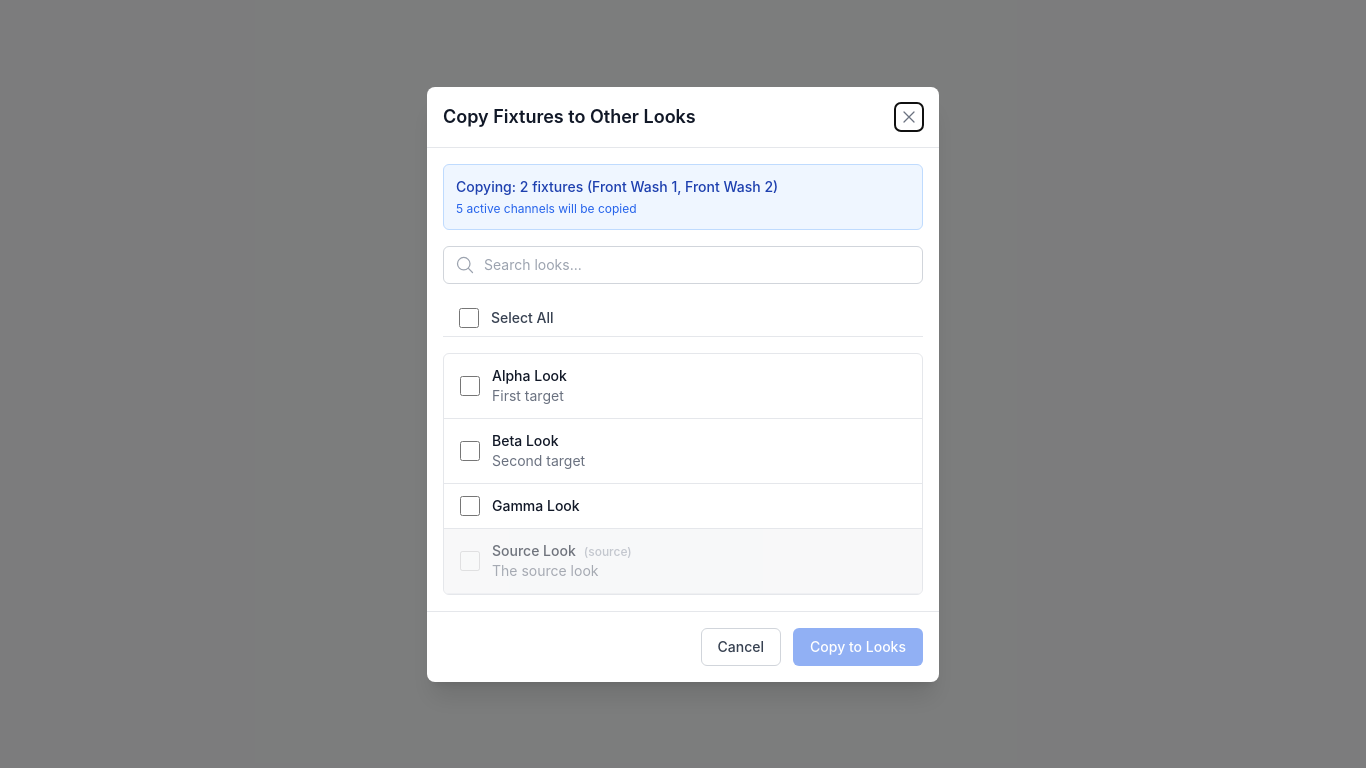
CopyFixturesToLooksModal › selection behavior › updates button label when looks are selected
Expected: the button "Copy to Looks" is shown, [793,628,923,666]
# Select a look
Click the text "Alpha Look": (529, 375) [492,366,567,384]
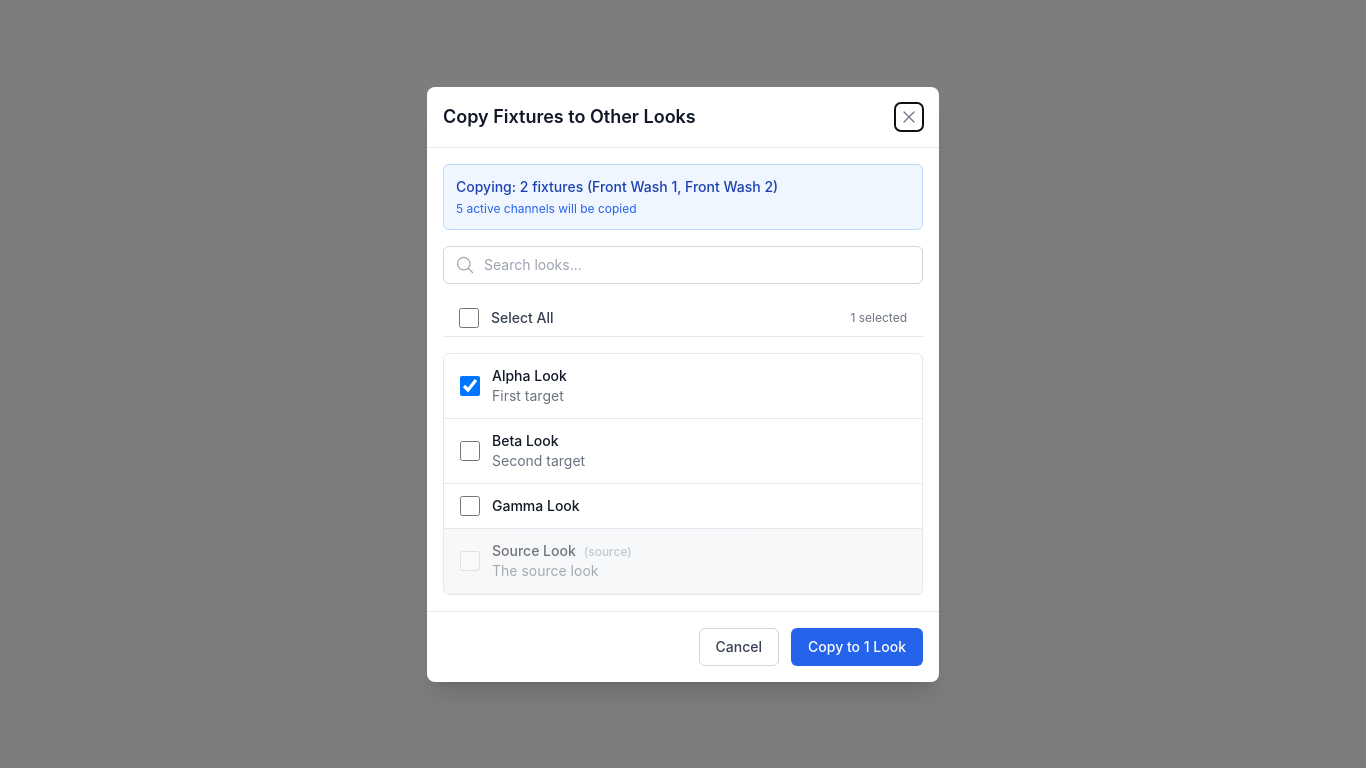
Expected: the button "Copy to 1 Look" is shown, [791,628,923,666]
# Select another
Click the text "Beta Look": (525, 440) [492,432,559,448]
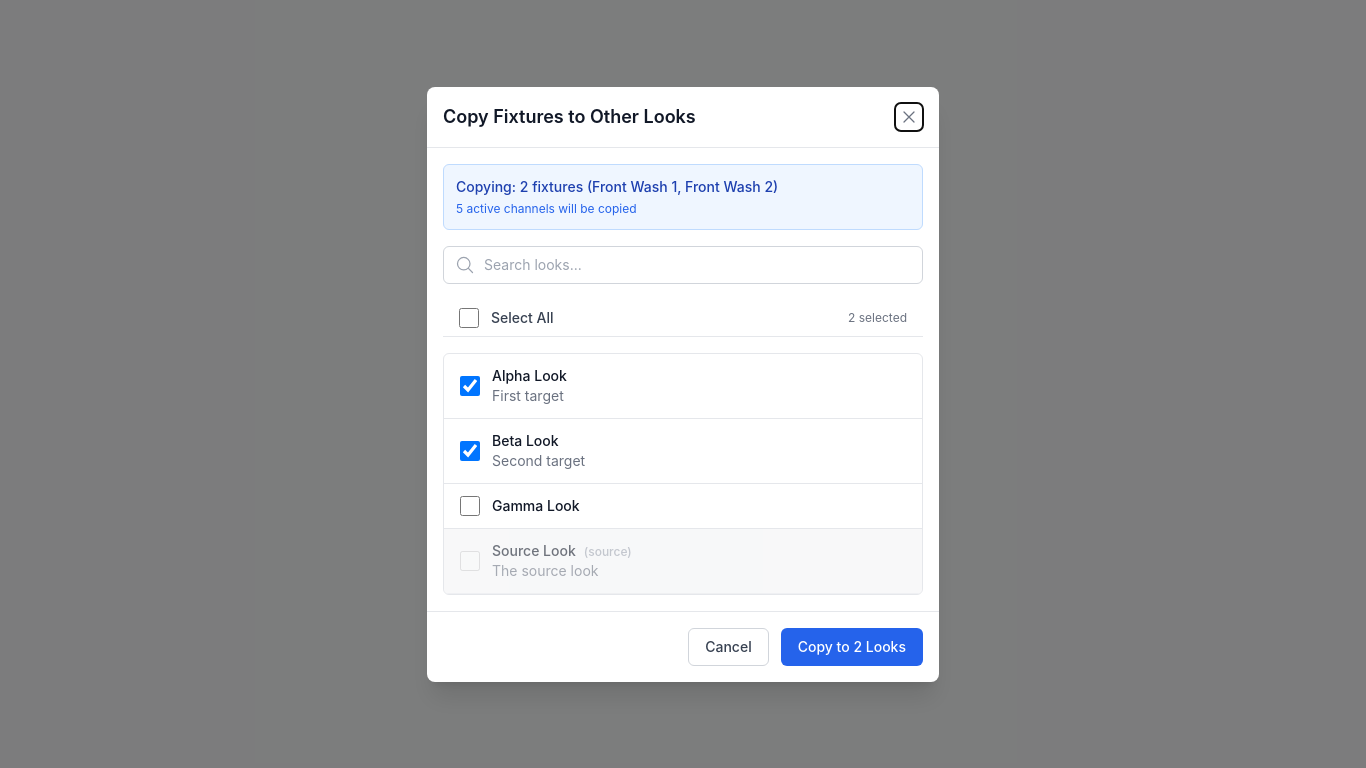
Expected: the button "Copy to 2 Looks" is shown, [781,628,923,666]
